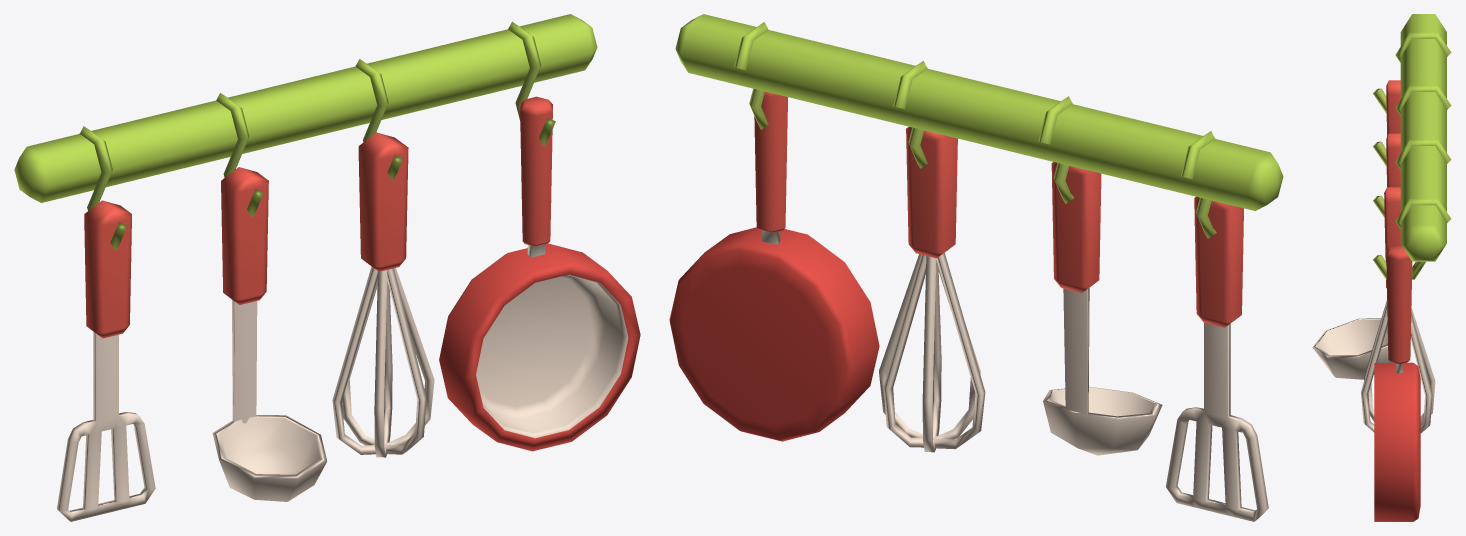
Rendered from Homestead_cm_17.fbx.
The picture shows the model from 3 angles, left to right: view 1: azimuth 30°, elevation 25°; view 2: azimuth 150°, elevation 25°; view 3: azimuth 270°, elevation 25°; orthographic projection. The views are drawn at different scales.
Visible parts, largest first — view 1: Homestead_cm_17; view 2: Homestead_cm_17; view 3: Homestead_cm_17.
Part boxes in pixels (x1,y1,x2,y2): Homestead_cm_17: (14,14,640,521); Homestead_cm_17: (669,14,1283,521); Homestead_cm_17: (1312,14,1451,521).
Size of the model in its own units: 103 by 66.37 by 26.54.
